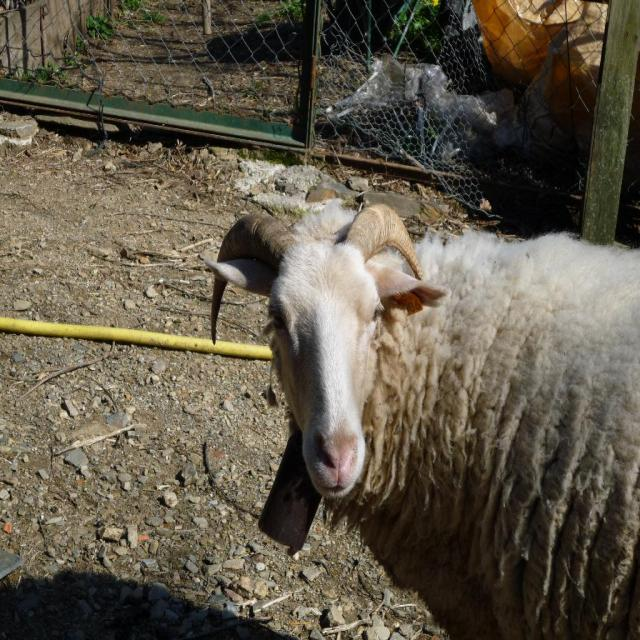Sheep: (204, 199, 640, 640)
